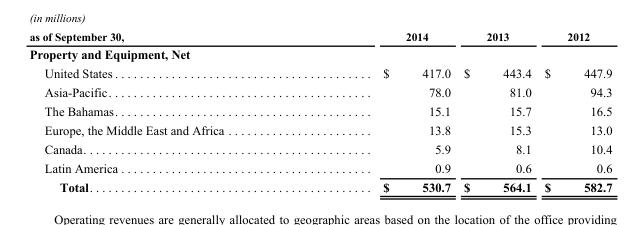table: (28, 29, 611, 193)
table column: (28, 29, 302, 193), (302, 29, 456, 193), (456, 29, 537, 193), (537, 29, 611, 193)
table column header: (28, 29, 611, 44)
table projected row header: (28, 44, 611, 63)
table row: (28, 44, 611, 63), (28, 63, 611, 82), (28, 82, 611, 101), (28, 101, 611, 120), (28, 120, 611, 139), (28, 139, 611, 158), (28, 158, 611, 177), (28, 177, 611, 193), (28, 29, 611, 44)
